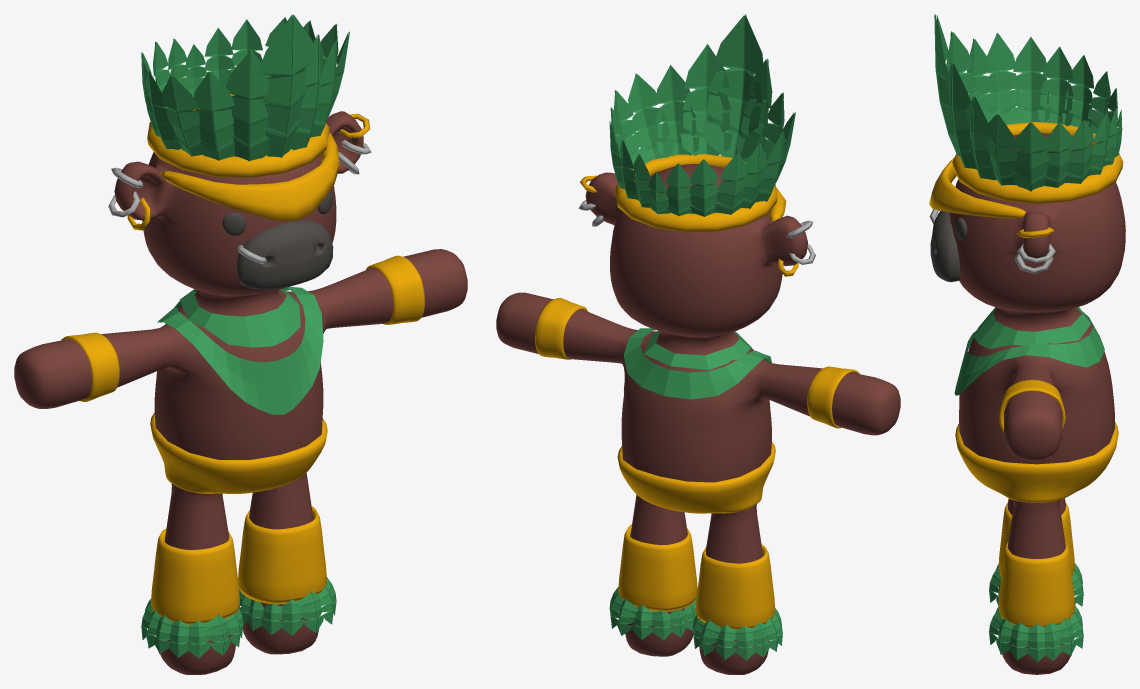
The model's file is VacAzteca2.fbx.
The picture shows the model from 3 angles, left to right: view 1: azimuth 30°, elevation 25°; view 2: azimuth 150°, elevation 25°; view 3: azimuth 270°, elevation 25°; orthographic projection. The views are drawn at different scales.
Visible parts, largest first — view 1: brazos.005, Cube.007, brazos.001, Torus.016, Cube.012, Vaca_limpia_uvs.002, Torus.017, Cube.002, Cube.001, Cube.006, brazos.004, brazos.003 (+1 smaller); view 2: brazos.005, Cube.007, brazos.001, Torus.016, Cube.002, Cube.001, Cube.006, brazos.004, Torus.017, brazos.003; view 3: brazos.005, Cube.007, brazos.001, Cube.002, Cube.006, Torus.016, Torus.017, Cube.012, Vaca_limpia_uvs.002, brazos.004, Cube.001, Torus.013.
Boxes of the visible parts, left/top/right/bottom form: brazos.005: left=14, top=111, right=467, bottom=674; Cube.007: left=141, top=14, right=349, bottom=161; brazos.001: left=150, top=413, right=327, bottom=624; Torus.016: left=157, top=286, right=323, bottom=414; Cube.012: left=161, top=133, right=339, bottom=221; Vaca_limpia_uvs.002: left=236, top=220, right=333, bottom=289; Torus.017: left=179, top=289, right=300, bottom=347; Cube.002: left=147, top=94, right=329, bottom=177; Cube.001: left=141, top=598, right=243, bottom=658; Cube.006: left=239, top=576, right=336, bottom=635; brazos.004: left=366, top=255, right=424, bottom=324; brazos.003: left=61, top=332, right=119, bottom=401; brazos.005: left=496, top=164, right=900, bottom=674; Cube.007: left=609, top=14, right=795, bottom=216; brazos.001: left=617, top=442, right=775, bottom=629; Torus.016: left=623, top=328, right=771, bottom=399; Cube.002: left=615, top=154, right=777, bottom=232; Cube.001: left=692, top=608, right=782, bottom=660; Cube.006: left=609, top=586, right=696, bottom=640; brazos.004: left=535, top=298, right=588, bottom=359; Torus.017: left=644, top=330, right=751, bottom=369; brazos.003: left=807, top=366, right=859, bottom=428; brazos.005: left=949, top=133, right=1125, bottom=674; Cube.007: left=934, top=14, right=1122, bottom=191; brazos.001: left=955, top=422, right=1118, bottom=627; Cube.002: left=952, top=122, right=1123, bottom=203; Cube.006: left=989, top=606, right=1083, bottom=662; Torus.016: left=954, top=308, right=1104, bottom=395; Torus.017: left=973, top=307, right=1090, bottom=348; Cube.012: left=929, top=158, right=1026, bottom=218; Vaca_limpia_uvs.002: left=930, top=210, right=960, bottom=282; brazos.004: left=999, top=379, right=1065, bottom=432; Cube.001: left=989, top=563, right=1083, bottom=606; Torus.013: left=1015, top=253, right=1053, bottom=273.
Bounding box in the file's own units: 133 × 199 × 55.91.
